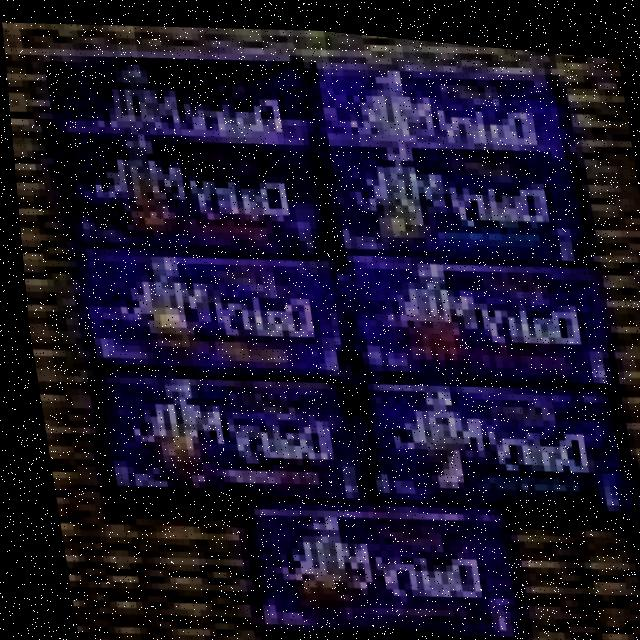cadbury: (345, 360, 626, 527), (226, 479, 511, 640), (82, 351, 367, 512), (35, 24, 316, 186), (59, 226, 348, 383), (326, 230, 606, 390), (31, 107, 311, 266), (312, 119, 589, 264), (309, 45, 576, 186)
